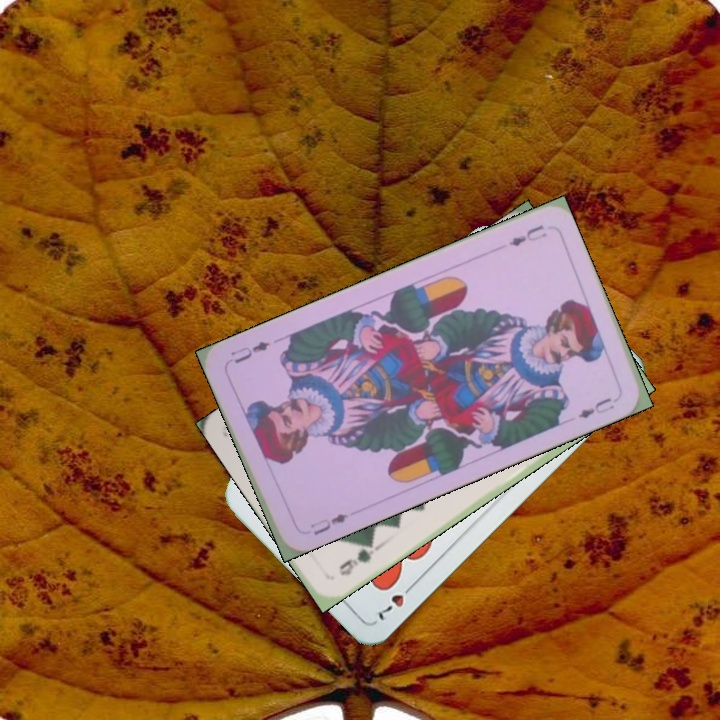EU: (505, 220, 550, 249), (306, 509, 350, 538)
G9: (334, 537, 381, 579)
H7: (371, 578, 418, 624)
